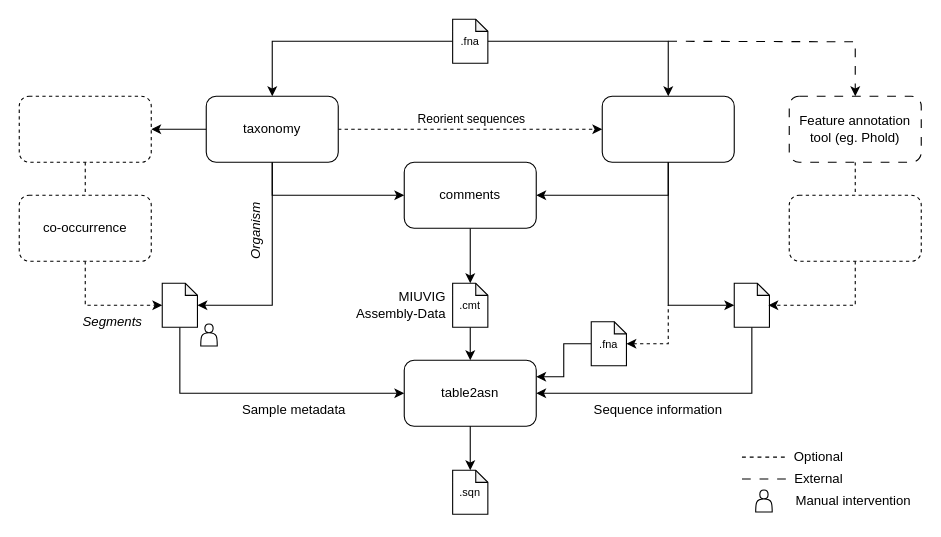
Some shapes in this 941 by 537 pixel diagram are drawn without their labels. The centre of each missing label's shape, as x and y in pixels:
.src: the point at 179,304
.tbl: the point at 751,304
features: the point at 667,128
gbk2tbl: the point at 854,227
segment-info: the point at 84,128
